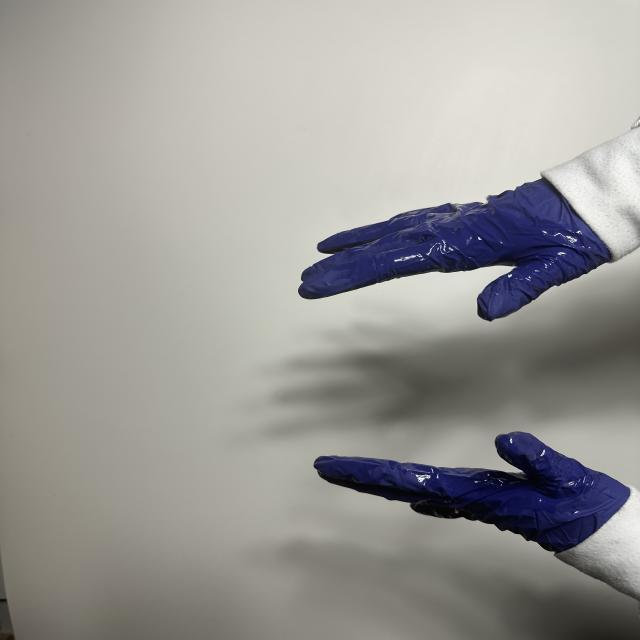gloves_contaminated: (299, 179, 610, 321), (314, 432, 630, 552)
